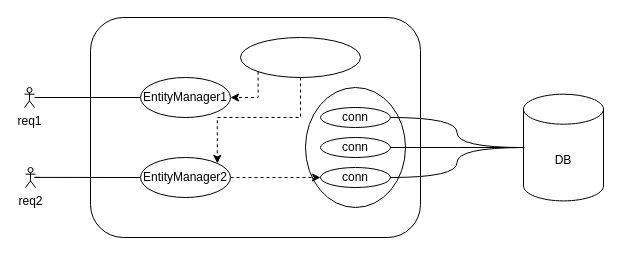
The diagram is 621 pixels wide and 255 high, and some of its shapes have lost their labels. Here are the shapes that lost their labels. From the top down, the box of each, then its label:
(240, 36, 360, 78): EntityManagerFactory
(90, 16, 420, 238): JAVA Aplication
(304, 86, 406, 208): 커넥션풀
